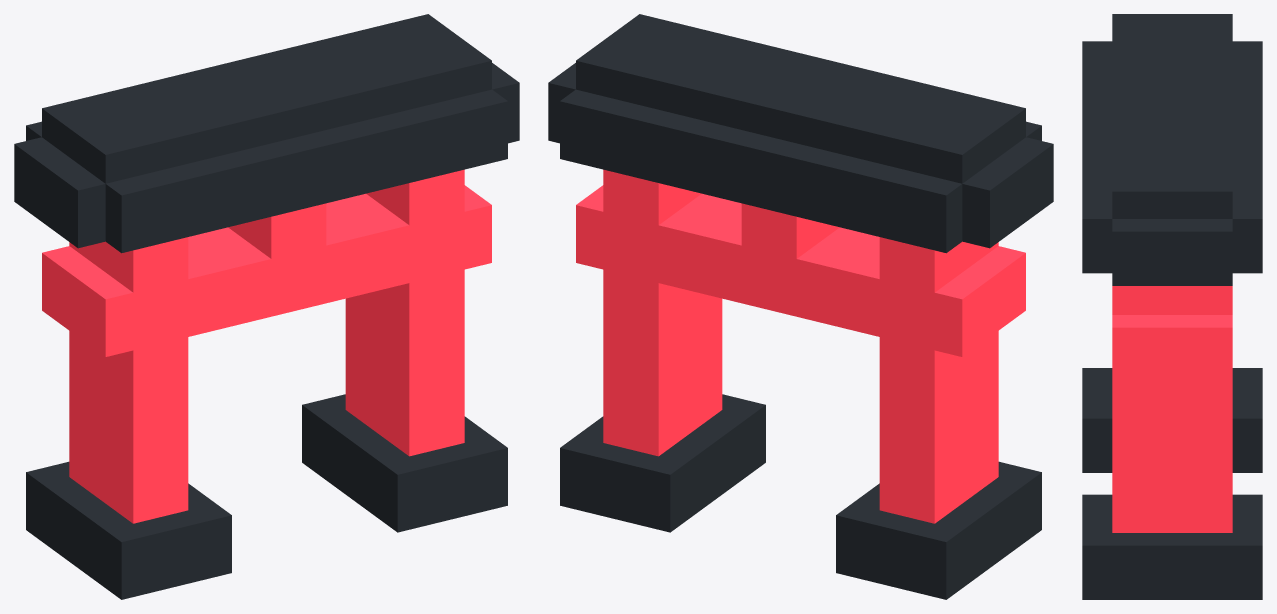
File: voxel-torii.glb
3 renders of one model, left to right at view 1: azimuth 30°, elevation 25°; view 2: azimuth 150°, elevation 25°; view 3: azimuth 270°, elevation 25°, orthographic. The views are drawn at different scales.
Parts seen in each view (by area): view 1: torii; view 2: torii; view 3: torii.
Boxes of the visible parts, x1,y1,x2,y2 form: torii: (14,14,519,599); torii: (548,14,1053,599); torii: (1082,14,1262,599).
Bounding box in the file's own units: 2.4 × 2.25 × 0.9.
